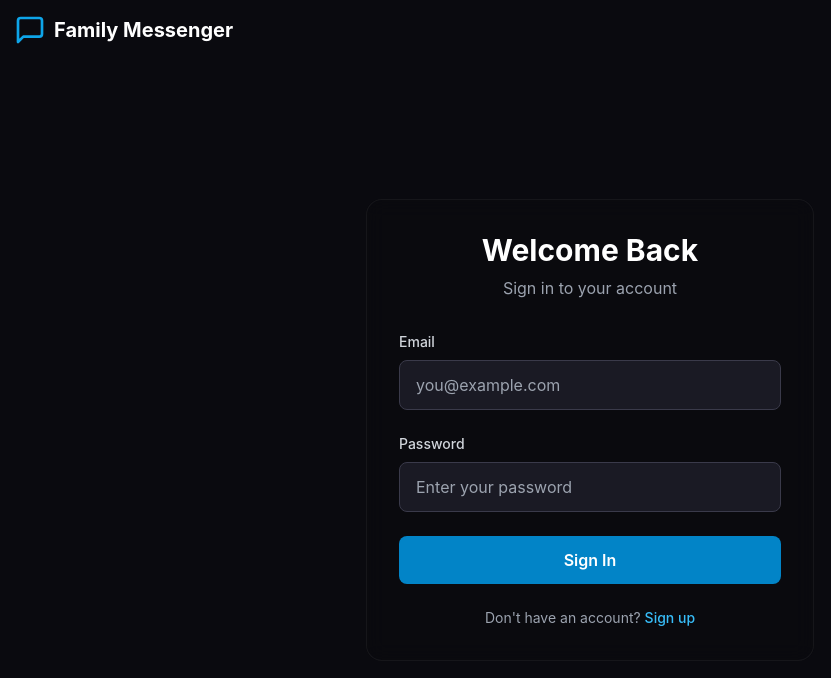
Test: Login Page › shows loading spinner while submitting
Type "test@example.com" into the field labelled "Email" at [590, 385], box [399,360,781,410]
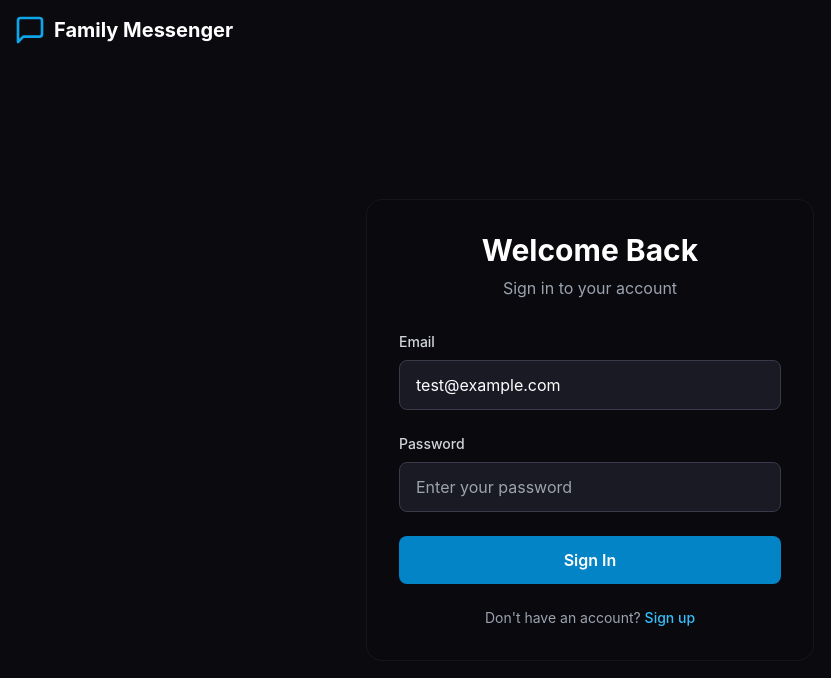
Type "Password123" into the password field labelled "Password" at [590, 487], box [399,462,781,512]
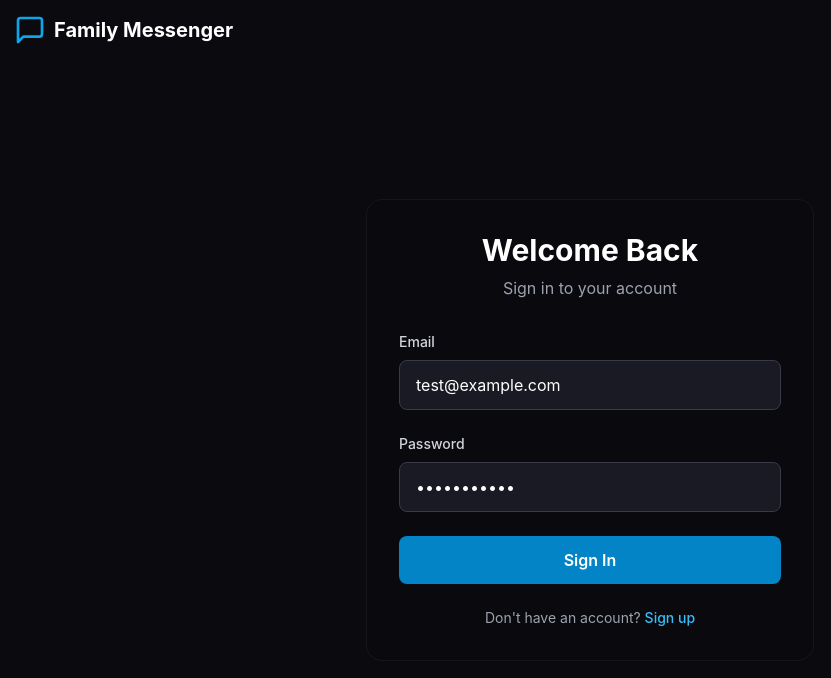
Click the button "Sign In" at [590, 560], box [399,536,781,584]
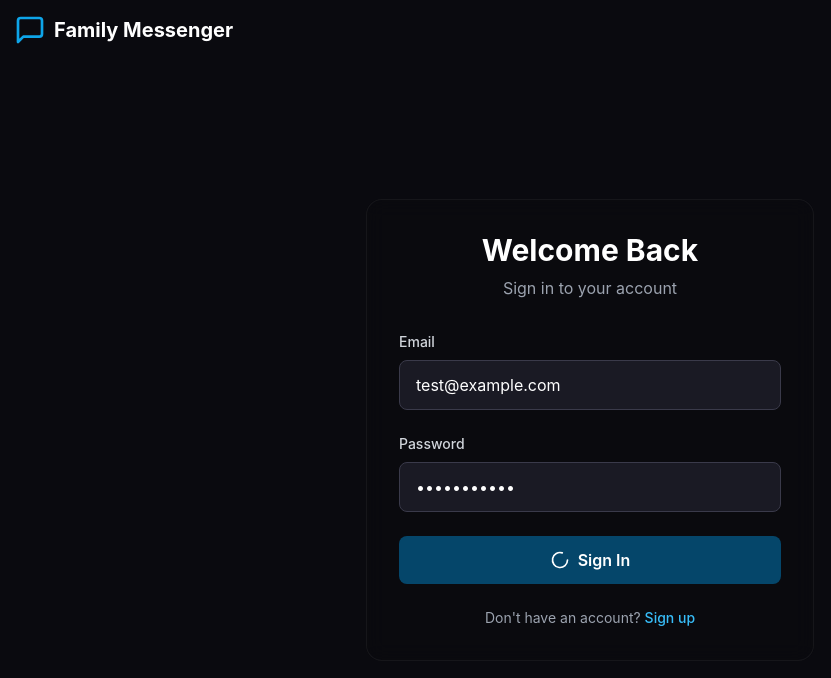
Expected: the button "Sign In" is disabled, [399,536,781,584]
